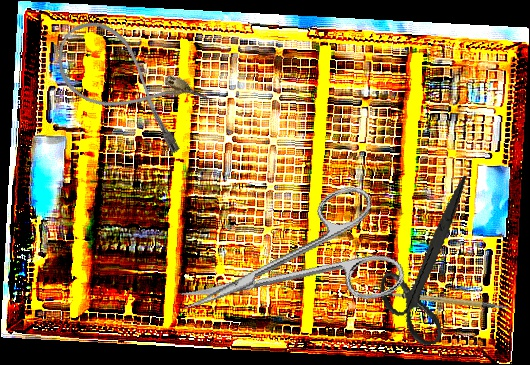Cannula: (41, 9, 215, 159)
Iris Scissors: (162, 178, 410, 354), (360, 175, 500, 353)
Scalpel Handle: (384, 274, 510, 330)
